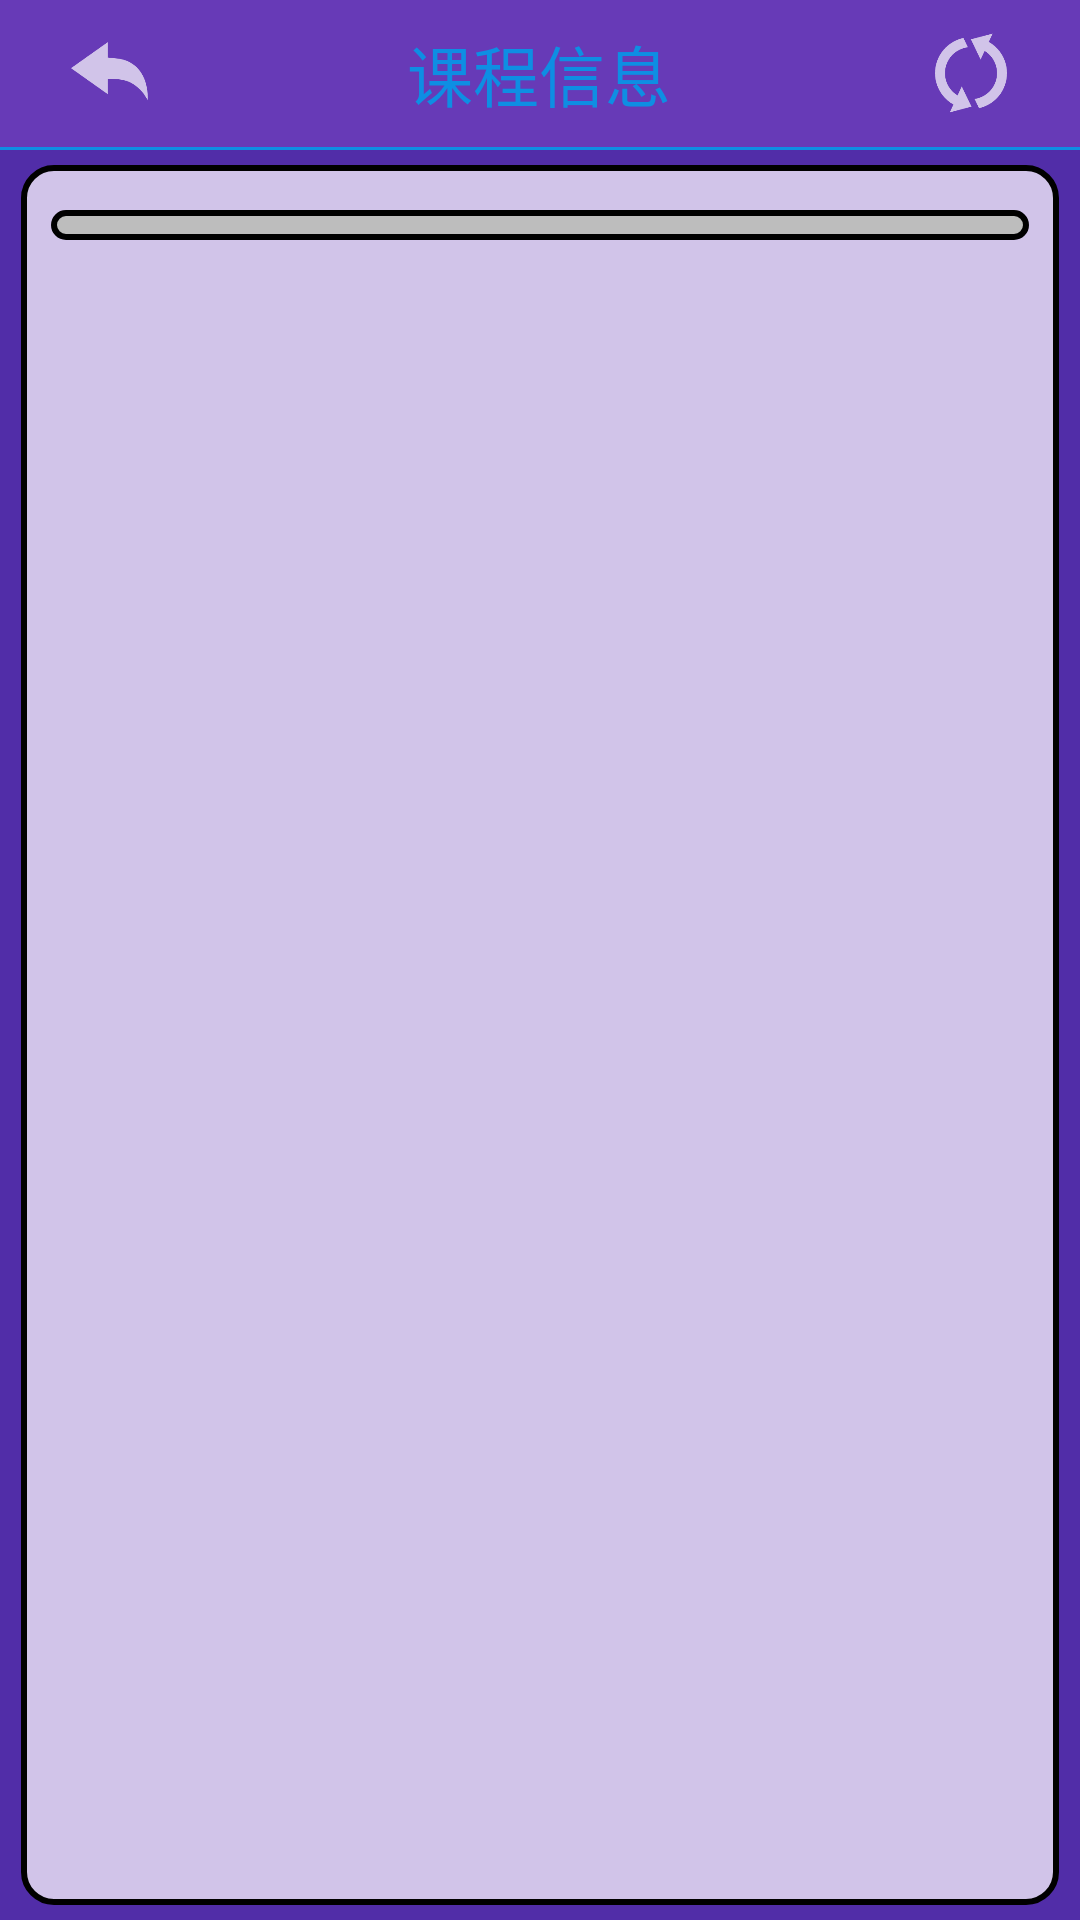

Locate icon controls on the screen. Image size 1080*1920, boxes as Rect(x1, y1, x2, y2).
fanhui: Rect(71, 42, 148, 100)
shuaxin: Rect(935, 34, 1007, 112)
